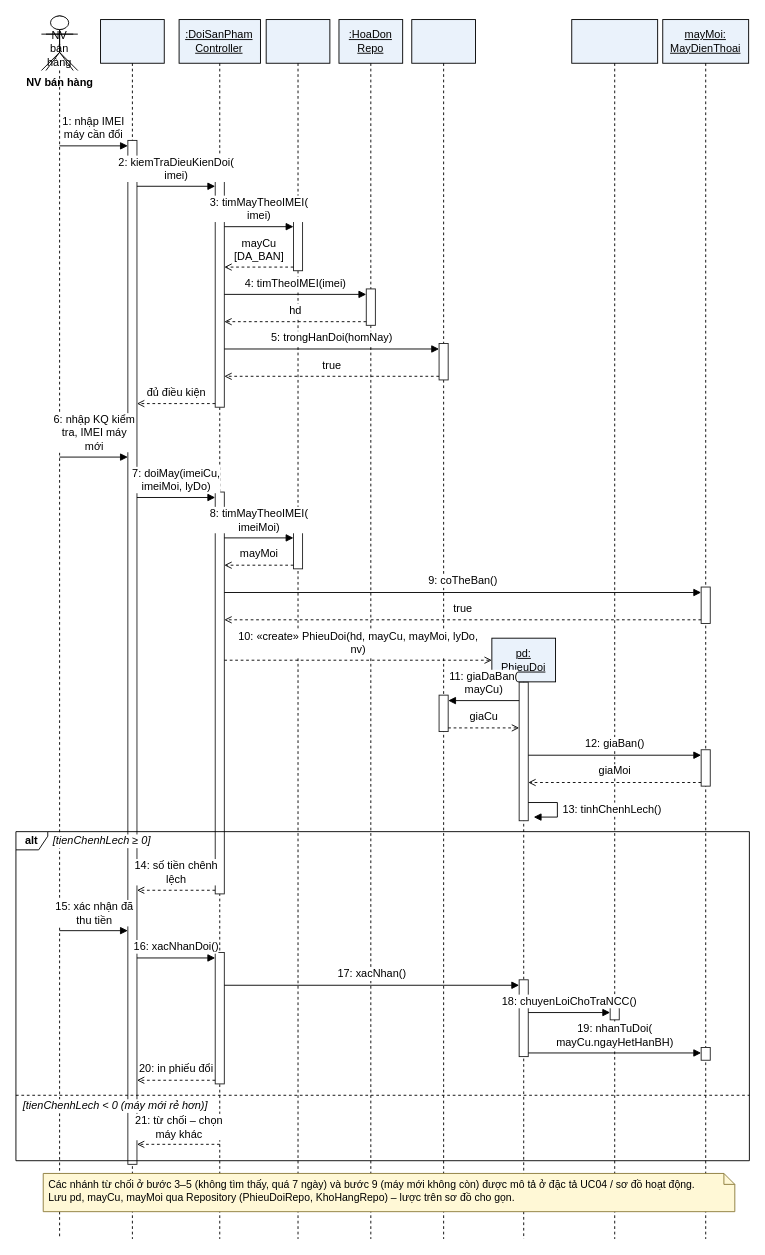
The diagram is 765 pixels wide and 1255 high, and some of its shapes have lost their labels. The shapes that lost their labels are listed below. From the top down, each one's box as (x1, y1, x2, y2) in pixels, then its label:
(100, 19, 164, 1239): :DoiSan PhamUI
(265, 19, 330, 1239): :KhoHang Repo
(411, 19, 475, 1239): hd: HoaDon
(571, 19, 658, 1239): mayCu: MayDienThoai
